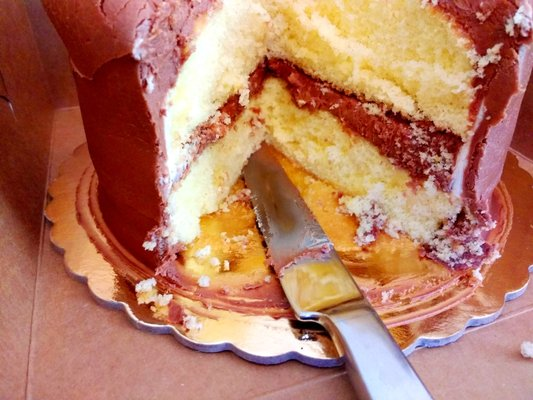sandwich: (242, 148, 436, 400)
